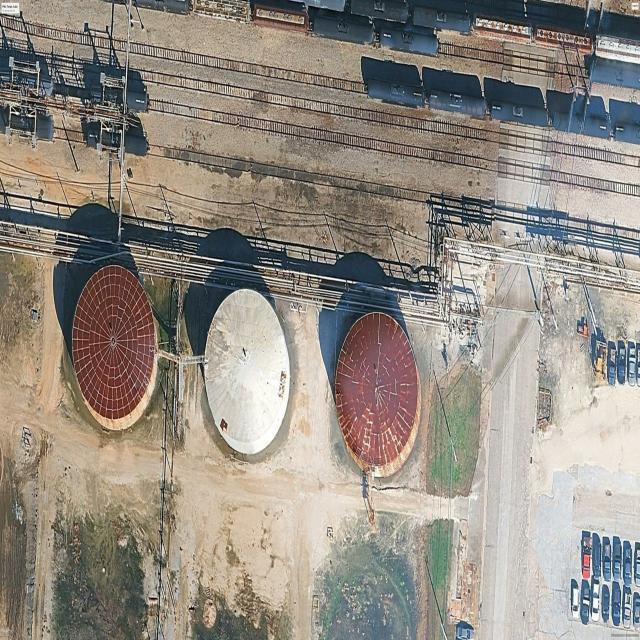Oil Rafinery: (335, 312, 421, 477), (205, 289, 290, 454), (72, 265, 157, 429)
